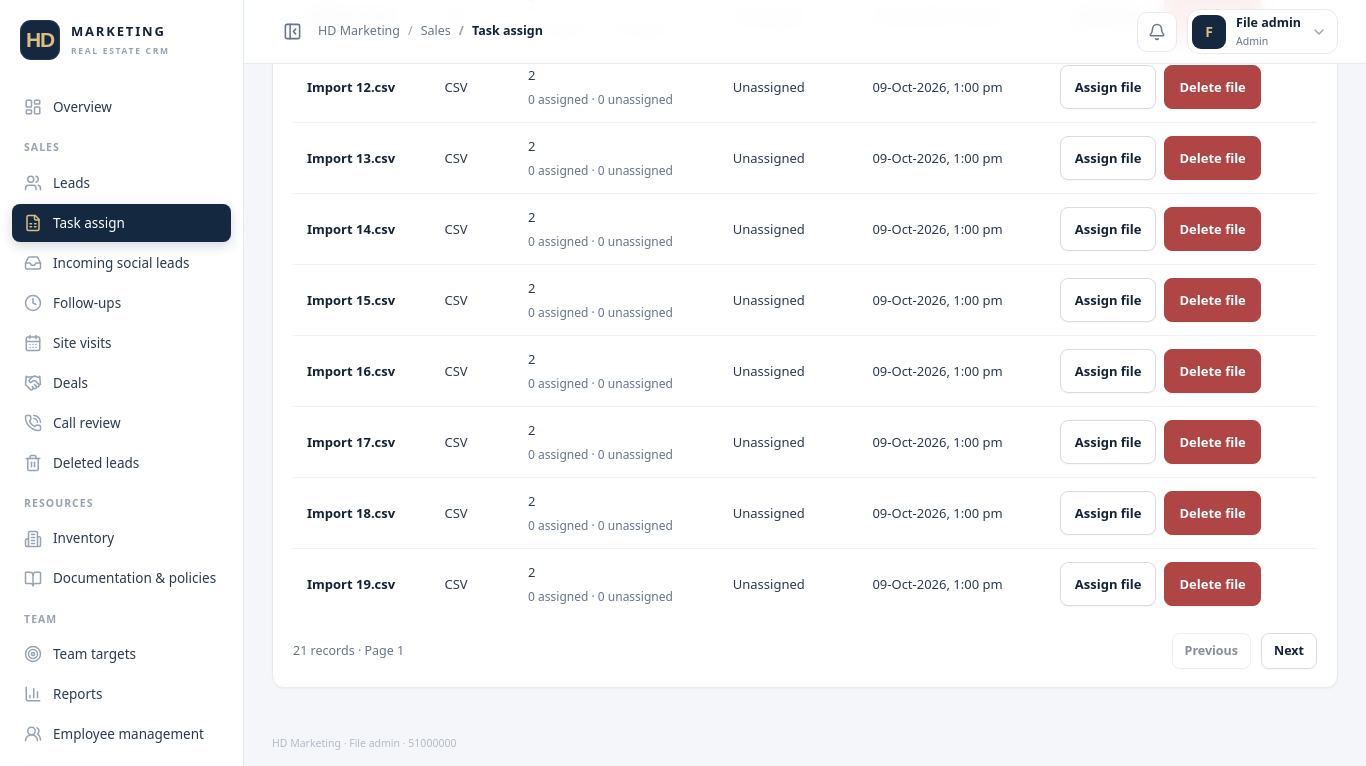
Test case: file assignment screens › paginates file history and resets to page one when searching
(page scrolled)
Click the button "Next": click(1289, 651) [1261, 633, 1317, 669]
(page scrolled)
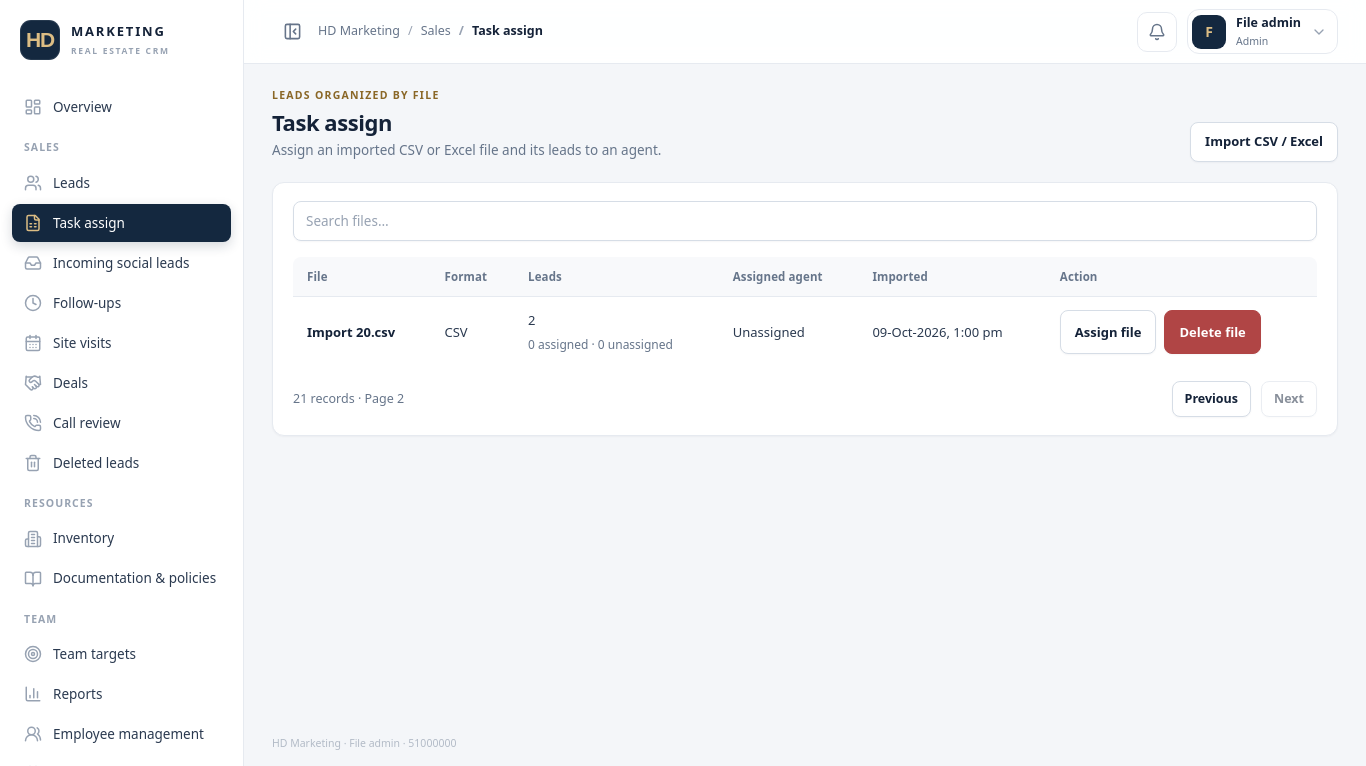
Expected: the link "Import 20.csv" is shown, [307, 323, 395, 341]
In the field named "Search imported files": (805, 221) [293, 201, 1317, 241], type "Import 4"
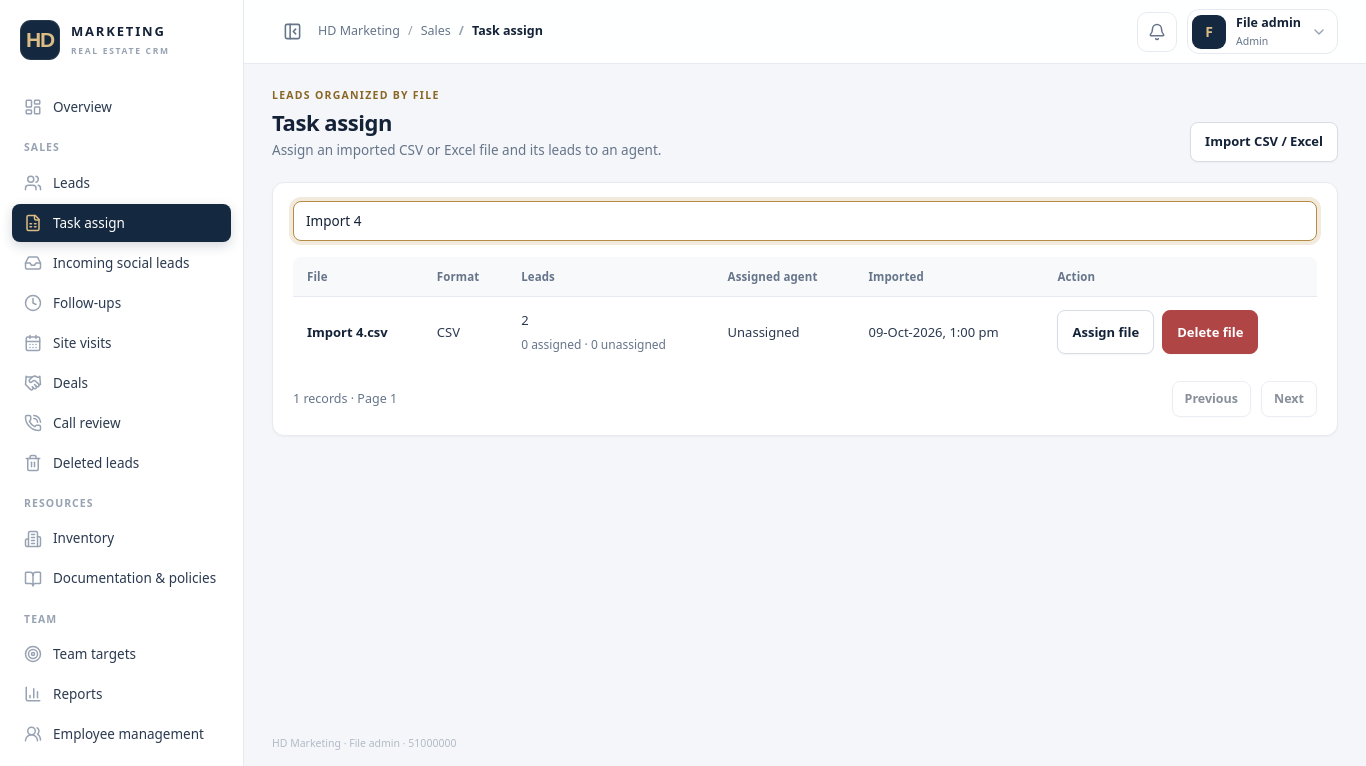
Expected: the link "Import 4.csv" is shown, [307, 323, 388, 341]
Expected: the text "1 records · Page 1" is shown, [293, 390, 397, 409]
